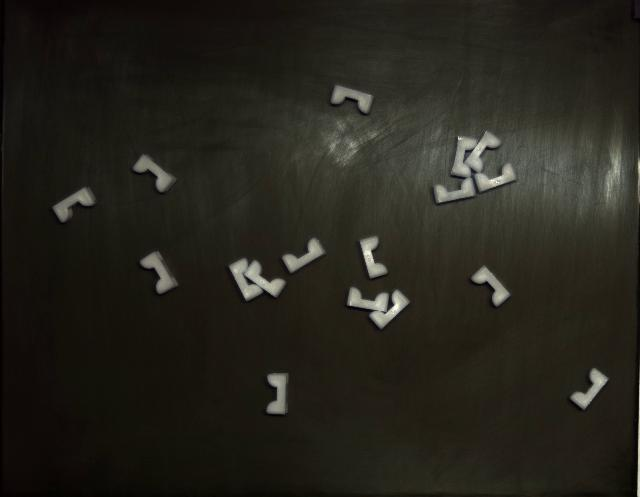third_side: (140, 251, 179, 295), (132, 154, 176, 192), (369, 290, 410, 330), (471, 266, 510, 308), (570, 369, 609, 410), (282, 238, 326, 274), (52, 188, 98, 222), (244, 261, 286, 298), (465, 131, 501, 172), (229, 259, 262, 301), (330, 85, 374, 114), (475, 162, 516, 192), (360, 236, 388, 279), (451, 136, 478, 178), (434, 178, 475, 204), (348, 288, 389, 312), (266, 374, 289, 415)
